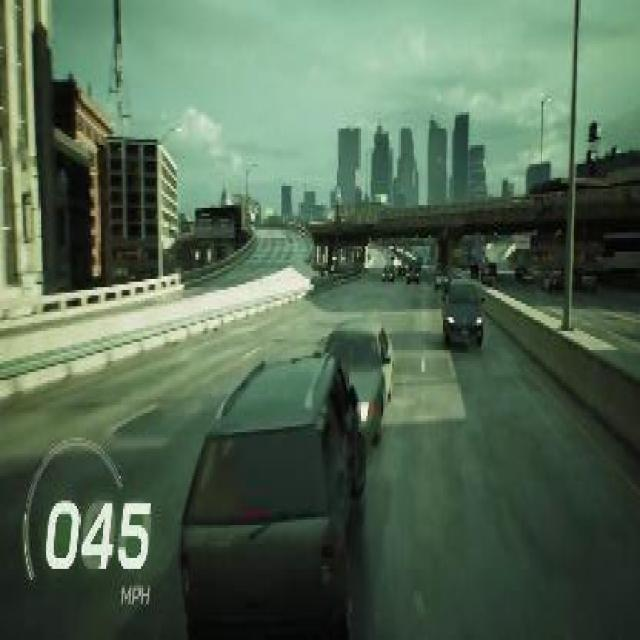accident: (172, 304, 400, 637)
